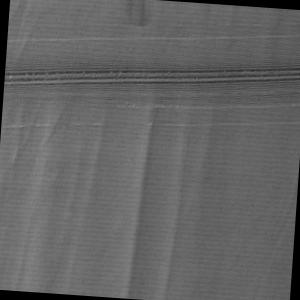Stain: (121, 1, 154, 33)
Wrinkle: (116, 71, 214, 300)
